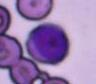L: (26, 23, 70, 64)
